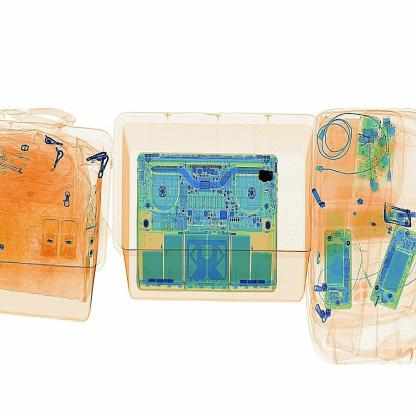scissors: (250, 160, 280, 196)
